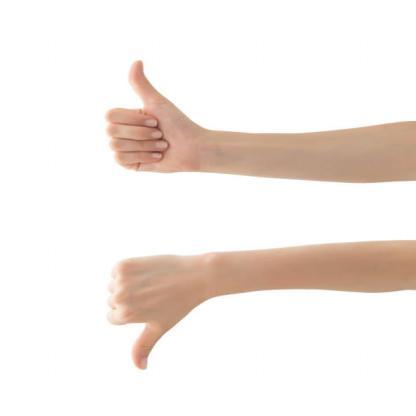thumb_down: (100, 248, 208, 372)
thumb_up: (100, 57, 204, 176)
